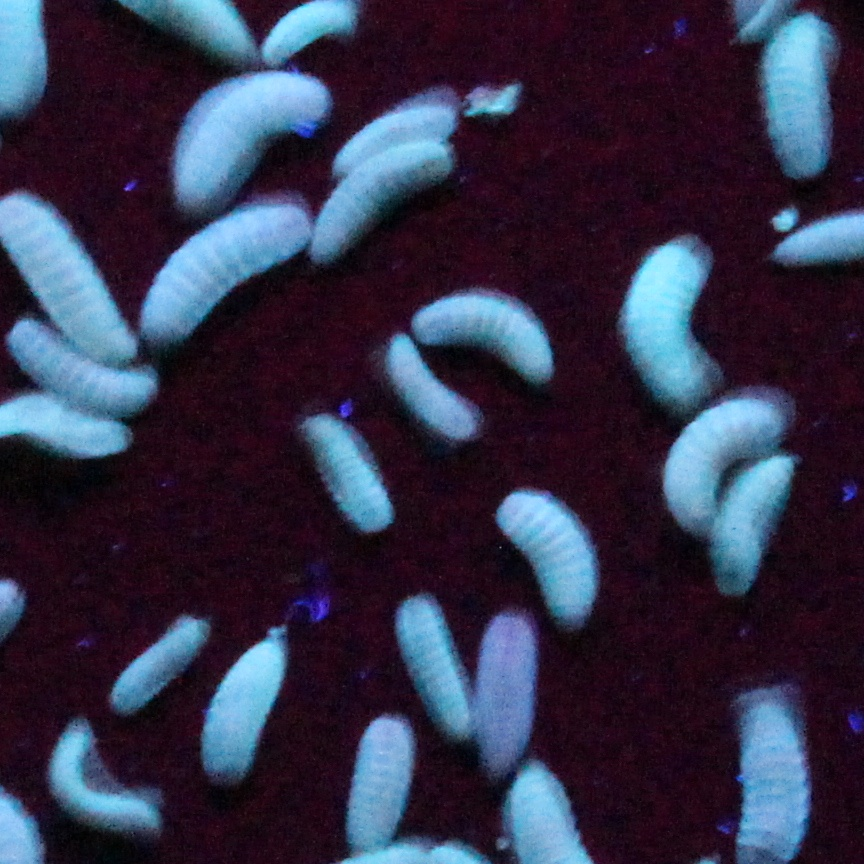larve: (616, 233, 733, 407), (154, 206, 308, 338), (170, 73, 320, 200), (310, 147, 455, 260), (664, 400, 765, 525), (207, 629, 292, 777), (500, 493, 594, 620), (421, 297, 552, 383), (399, 595, 474, 744), (49, 733, 159, 834), (764, 20, 833, 180), (473, 619, 541, 769), (307, 414, 394, 531), (380, 336, 469, 443), (8, 340, 145, 406), (115, 609, 204, 700), (349, 719, 413, 842), (718, 468, 774, 599), (341, 107, 452, 144)
